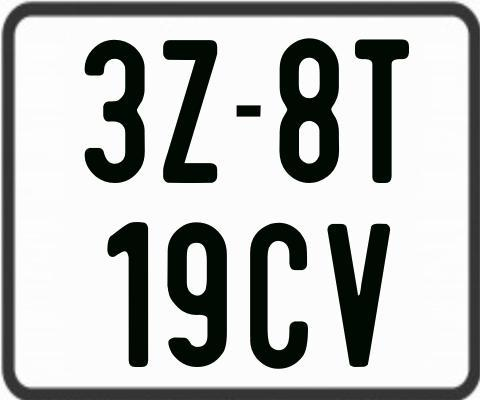1: (106, 221, 151, 371)
3: (85, 37, 150, 185)
8: (278, 36, 344, 186)
9: (167, 219, 229, 370)
C: (249, 221, 312, 371)
T: (355, 36, 414, 180)
V: (325, 222, 393, 368)
Z: (161, 39, 219, 187)
